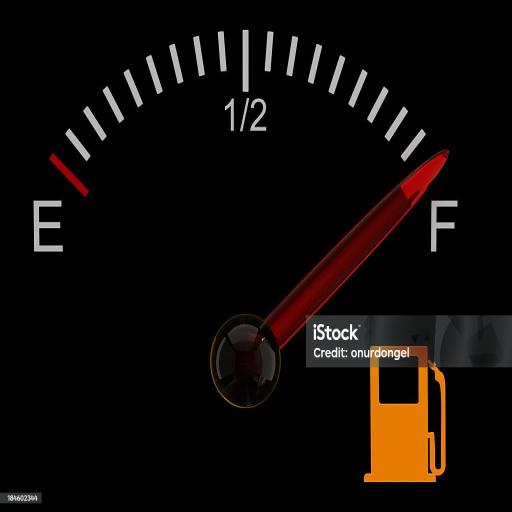empty: (32, 198, 66, 254)
fuel_icon: (361, 341, 447, 486)
full: (428, 196, 460, 256)
guage_area: (30, 26, 462, 492)
needle_center: (207, 307, 283, 410)
needle_tip: (428, 142, 454, 181)
